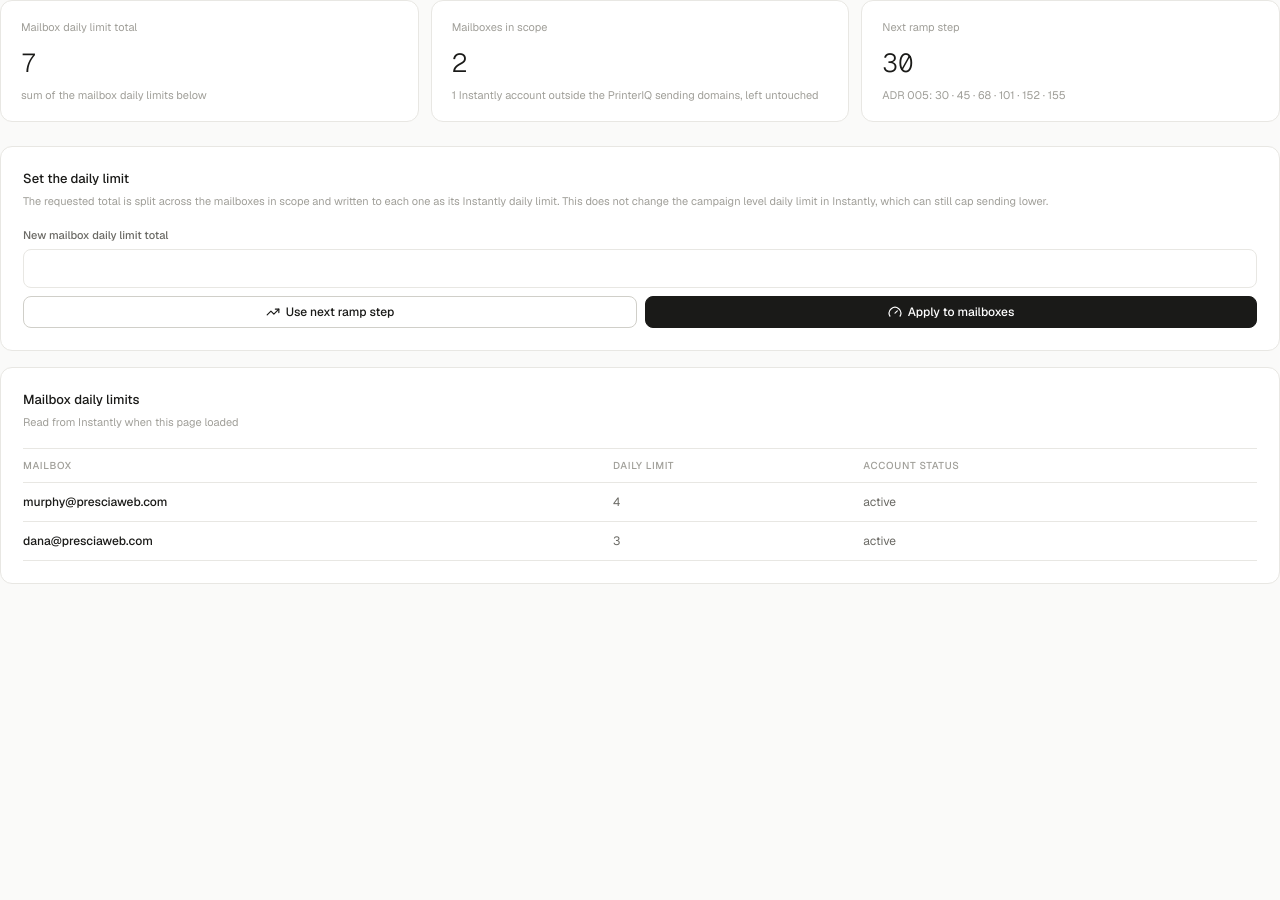
Test: SendRateControl › surfaces a thrown action error rather than silently reporting nothing
Type "30" into the number field labelled "New mailbox daily limit total" at (640, 268), box [23,248,1257,288]
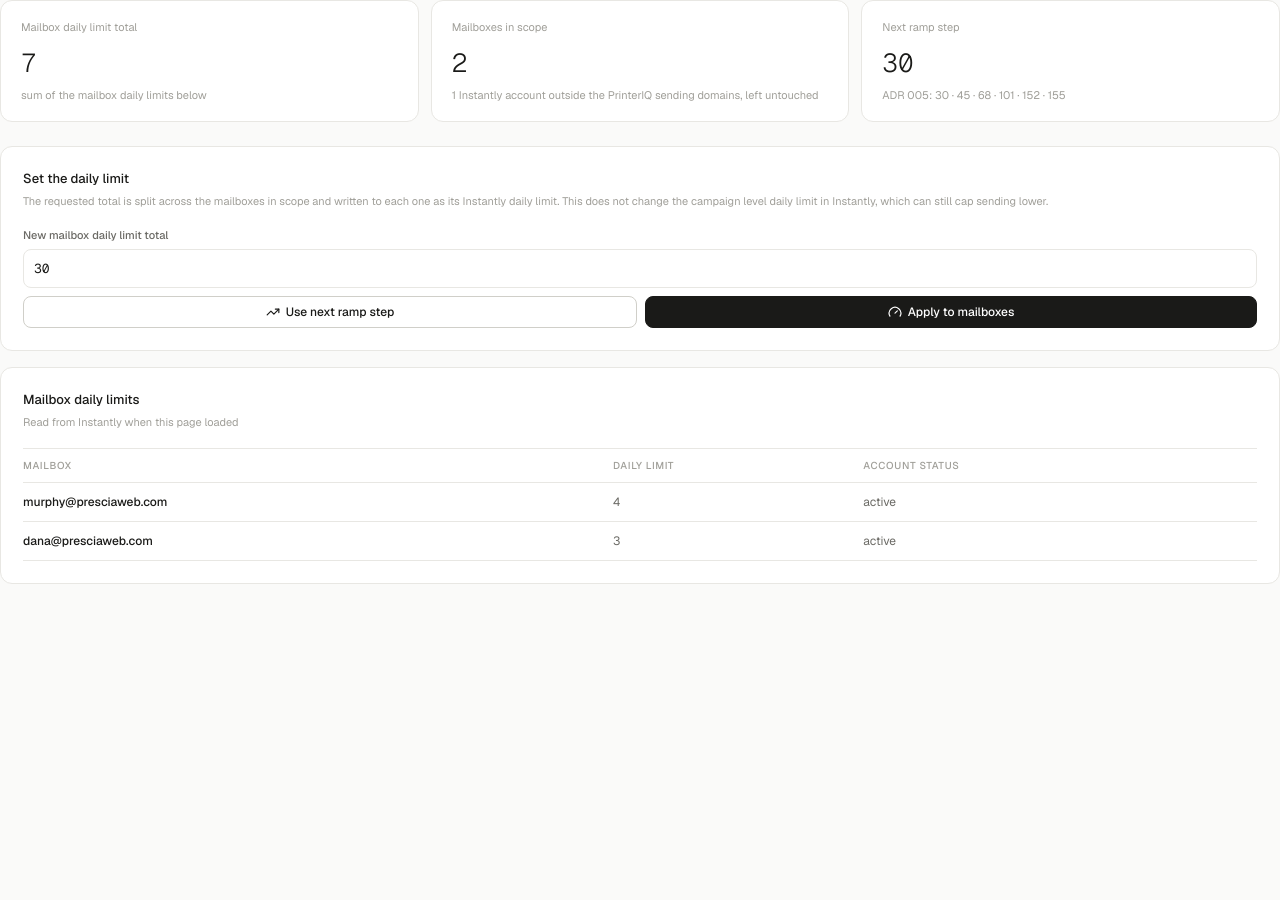
Click the button "Apply to mailboxes" at (951, 312), box [645,296,1257,328]
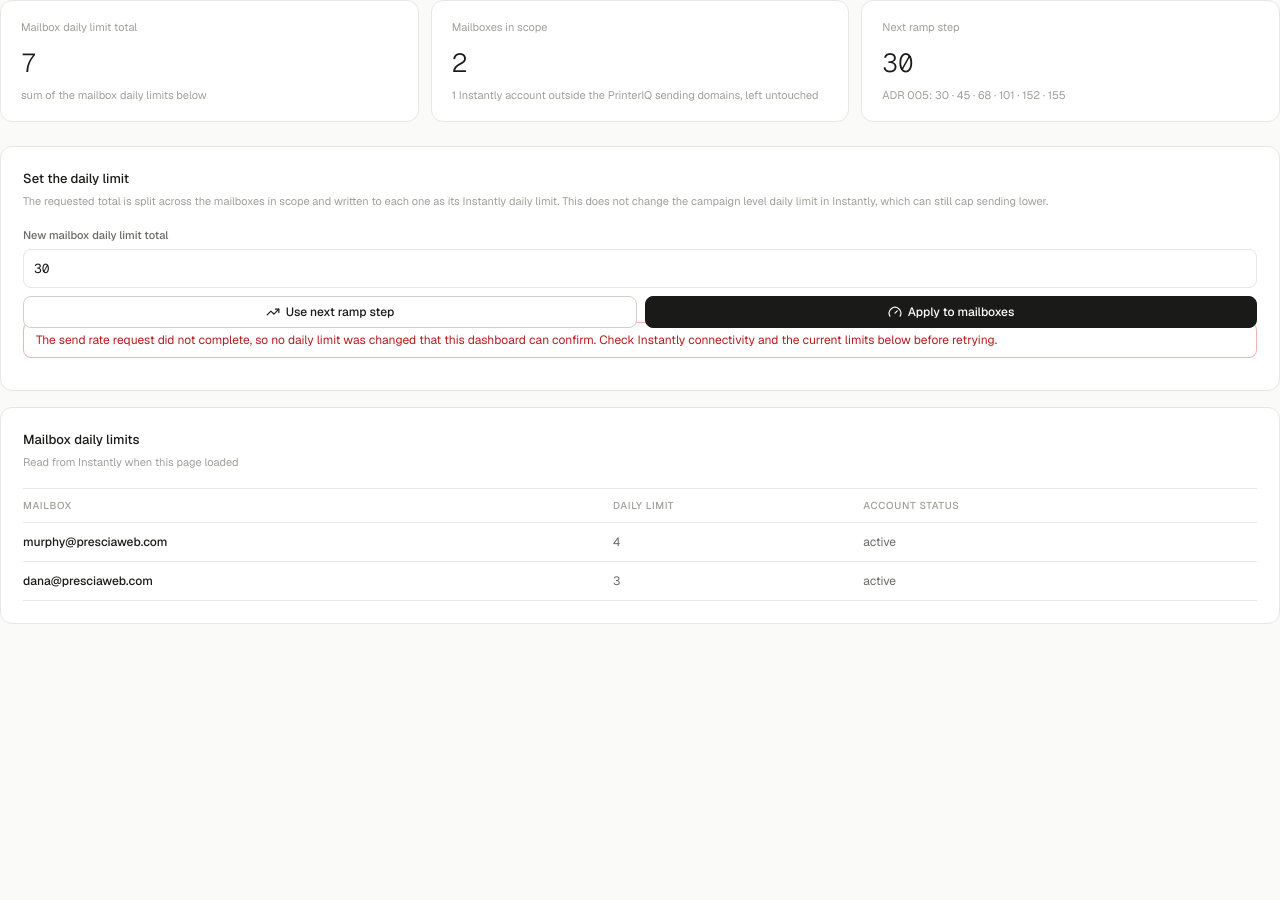
Now the text "no daily limit was changed" is shown, box [36,332,997,348]
